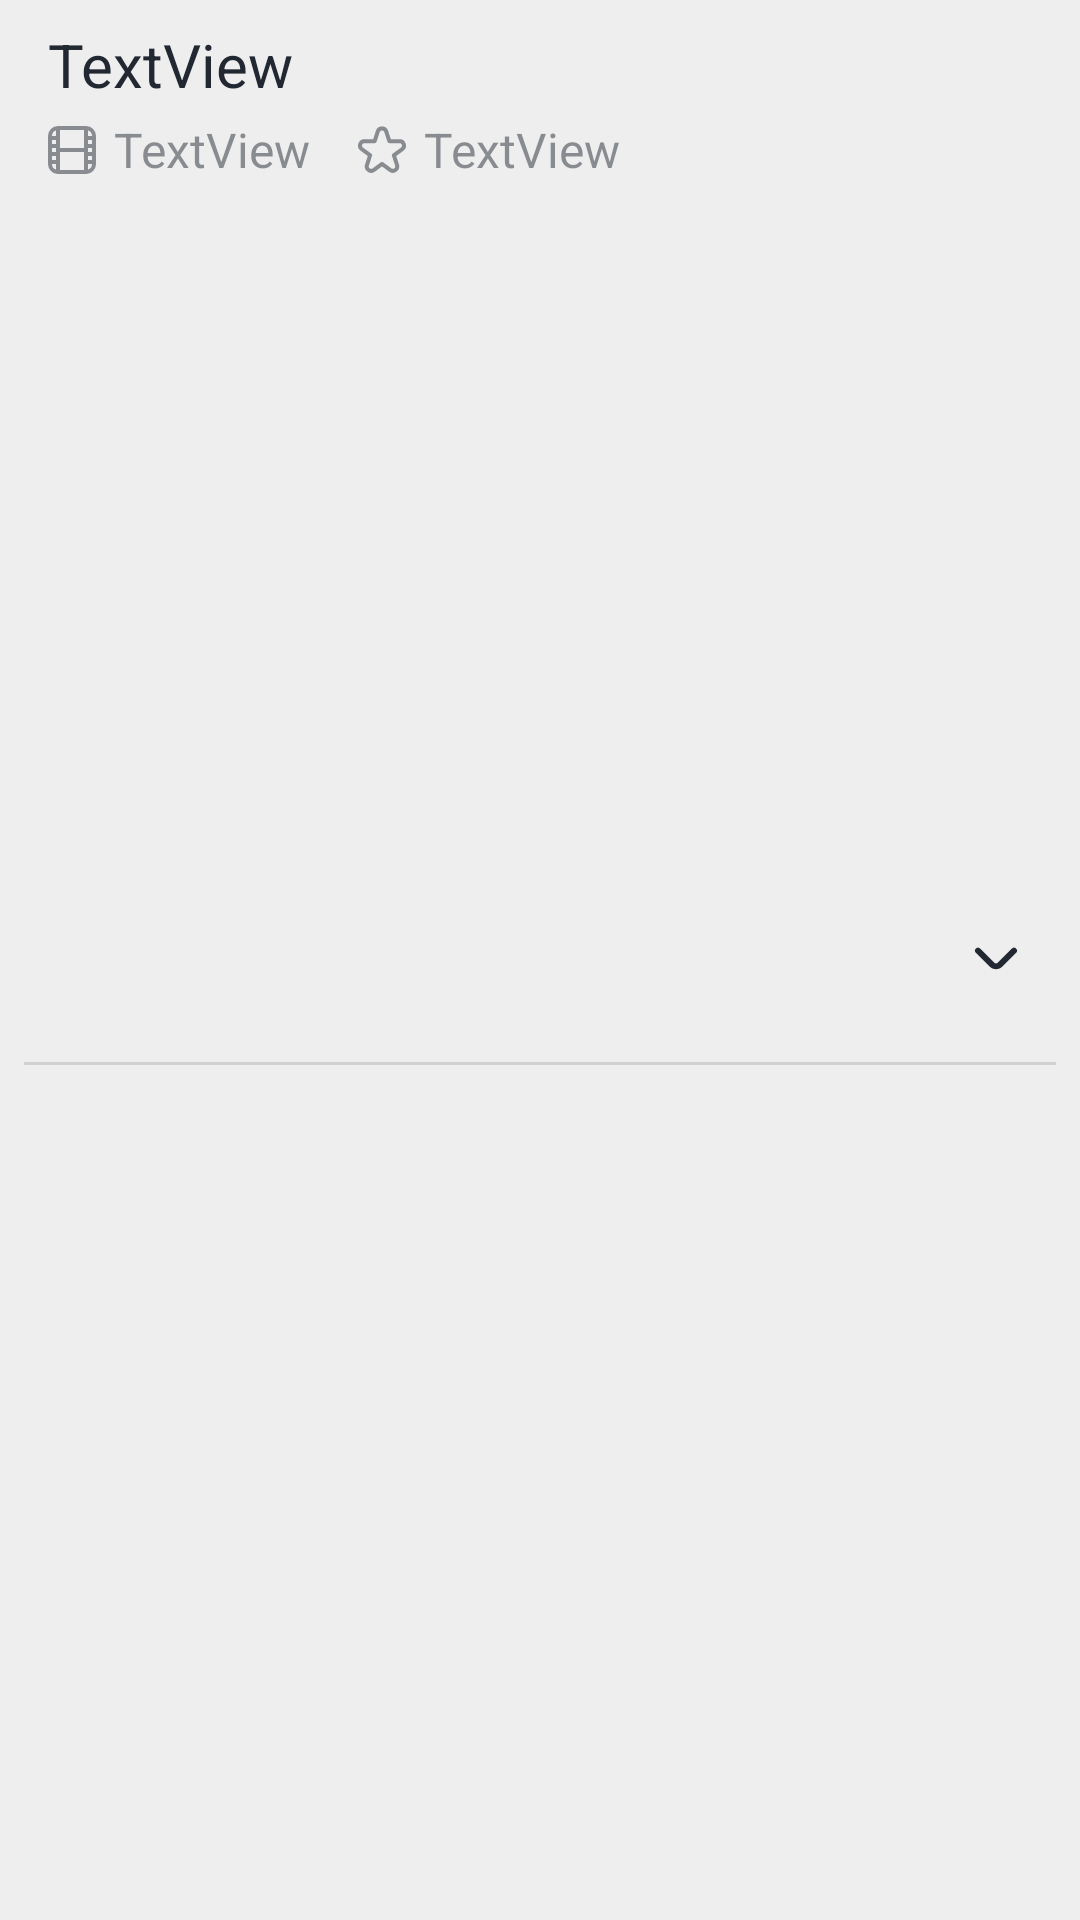

Icon click points for this 1080w x 1920h phone screenshot, format [x,y]:
angle down: [996,958]
bottom nav movies: [72,150]
wish list: [382,149]
